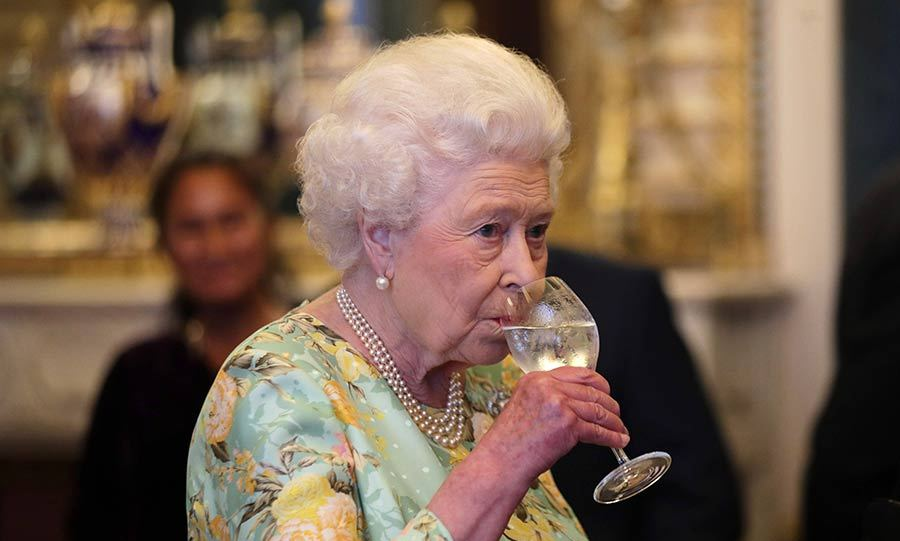drinking: (233, 20, 694, 485)
